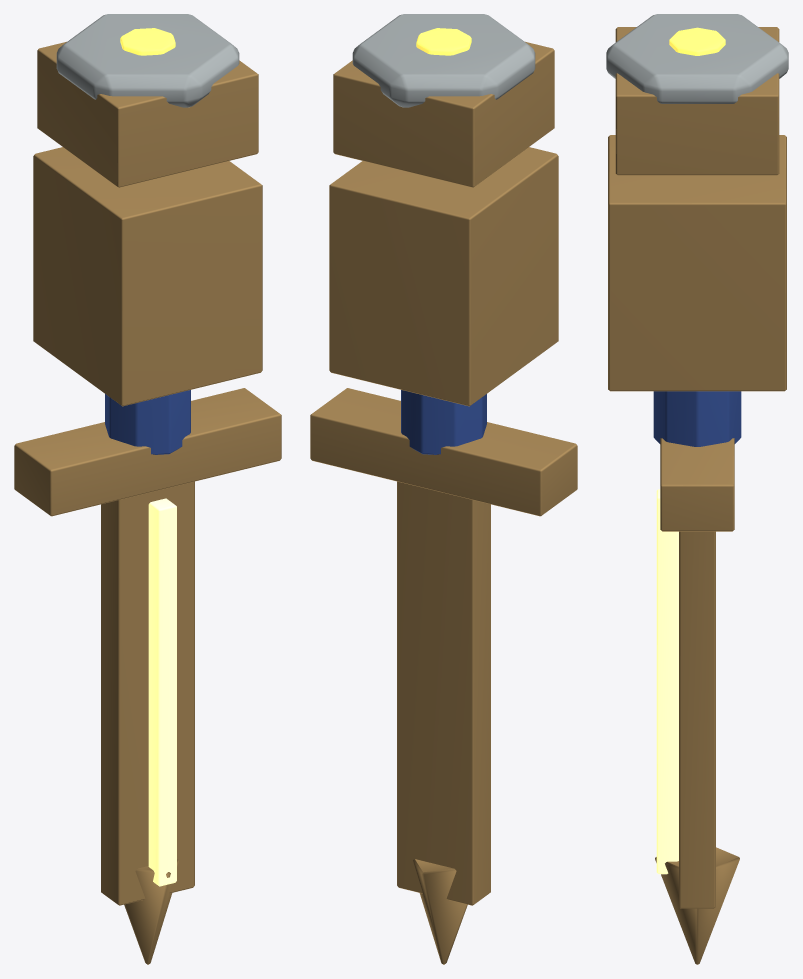
Rendered from errant_arm_oathblade.glb.
The picture shows the model from 3 angles, left to right: view 1: azimuth 30°, elevation 25°; view 2: azimuth 150°, elevation 25°; view 3: azimuth 270°, elevation 25°; orthographic projection.
Visible parts, largest first — view 1: errant_arm_oathblade; view 2: errant_arm_oathblade; view 3: errant_arm_oathblade.
Part boxes in pixels (x1,y1,x2,y2): errant_arm_oathblade: (14,14,281,964); errant_arm_oathblade: (310,14,577,964); errant_arm_oathblade: (606,14,788,964).
Size of the model in its own units: 0.36 by 1.37 by 0.245.
1 material, 1 textured.
